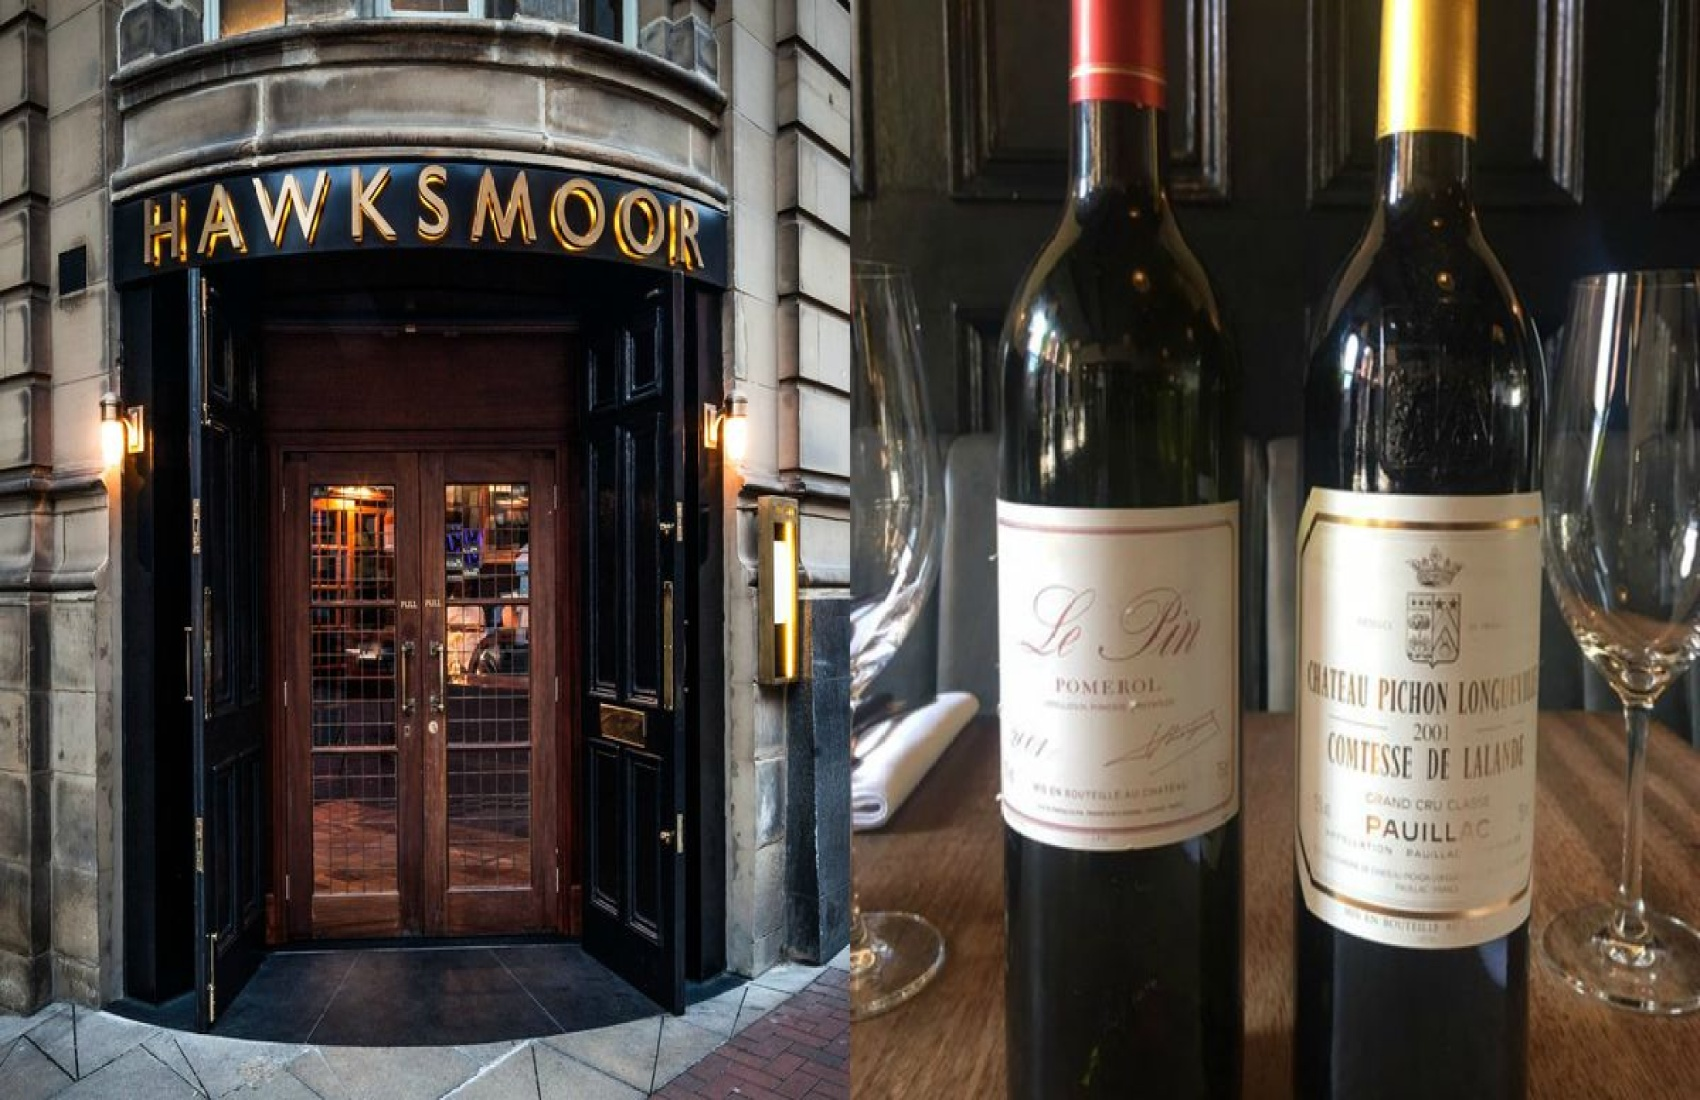wine: (994, 7, 1253, 1100), (1297, 1, 1556, 1093)
